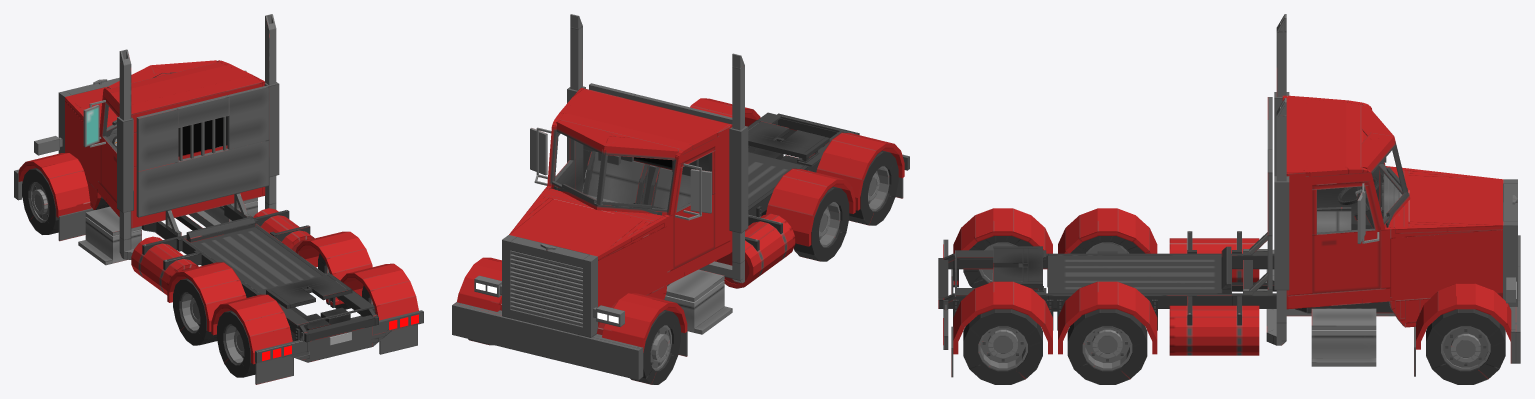
Rendered from peterbilt389.glb.
3 renders of one model, left to right at view 1: azimuth 30°, elevation 25°; view 2: azimuth 150°, elevation 25°; view 3: azimuth 270°, elevation 25°, orthographic. The views are drawn at different scales.
Visible parts, largest first — view 1: Material_0-material (×60); view 2: Material_0-material (×58); view 3: Material_0-material (×54).
Boxes of the visible parts, left/top/right/bottom form: Material_0-material (×60): left=33, top=27, right=423, bottom=384; Material_0-material (×58): left=452, top=26, right=885, bottom=380; Material_0-material (×54): left=953, top=31, right=1517, bottom=367.
Size of the model in its own units: 2.88 by 3.88 by 7.31.
3 materials, 1 textured.
